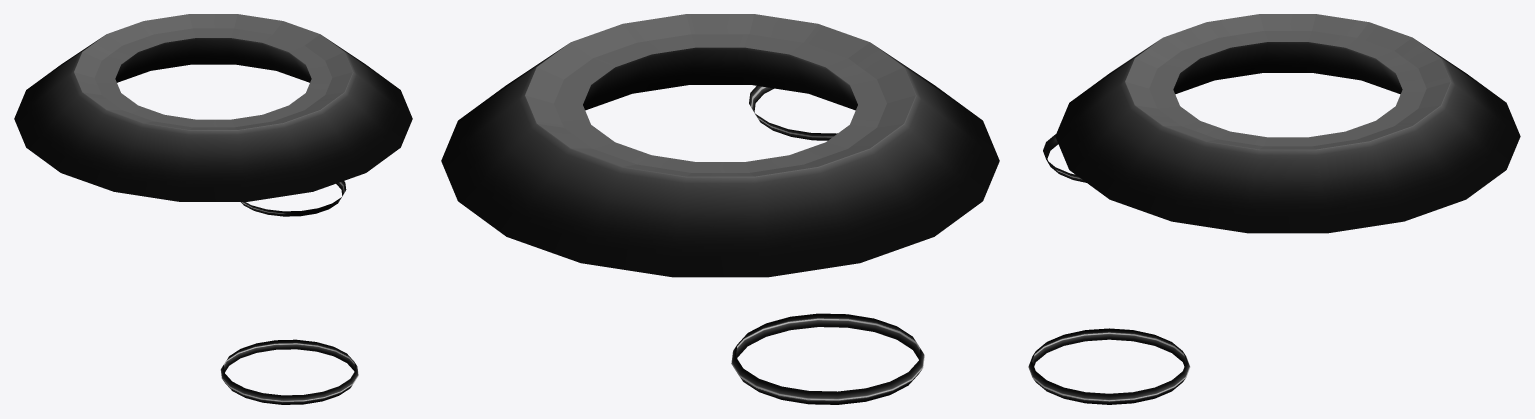
The model's file is ts_bwhctgd001.FBX.
3 views of the same model, side by side, from view 1: azimuth 30°, elevation 25°; view 2: azimuth 150°, elevation 25°; view 3: azimuth 270°, elevation 25° (orthographic). The views are drawn at different scales.
Parts seen in each view (by area): view 1: ts_bwhctgd001; view 2: ts_bwhctgd001; view 3: ts_bwhctgd001.
Part boxes in pixels (x1,y1,x2,y2): ts_bwhctgd001: [14, 14, 412, 404]; ts_bwhctgd001: [441, 14, 999, 404]; ts_bwhctgd001: [1028, 14, 1520, 404].
Size of the model in its own units: 6.2 by 4.34 by 6.66.
Materials: 1 (1 with a texture image).
